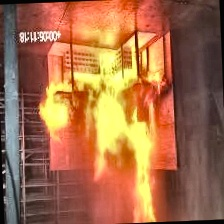fire: (32, 46, 179, 224)
